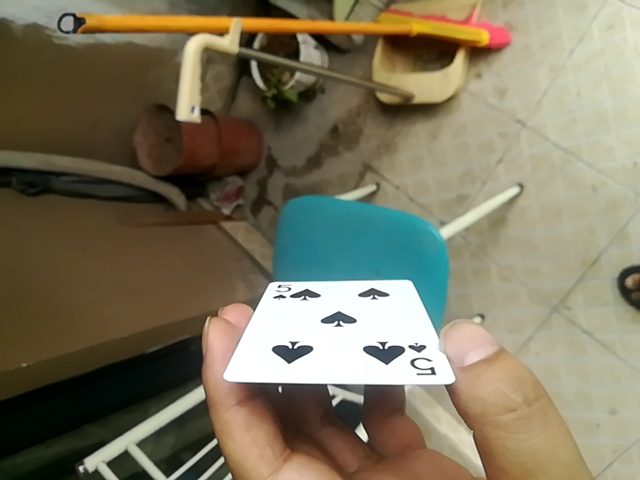ht 5: (221, 275, 447, 387)
